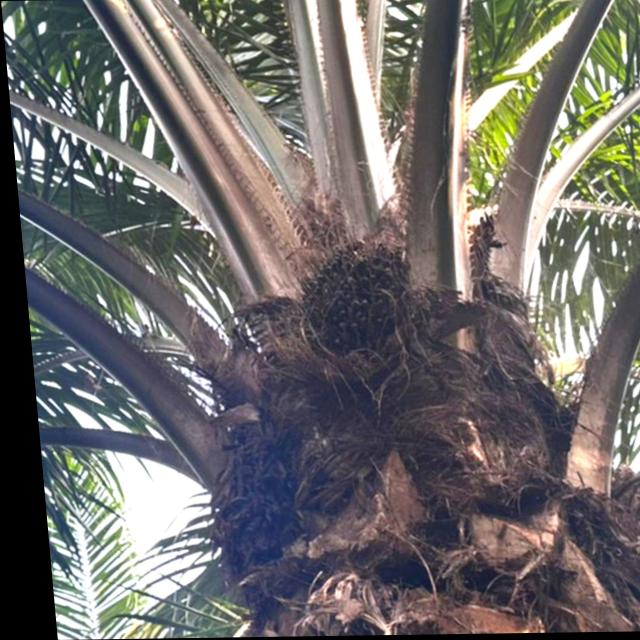unripe: (275, 234, 428, 383)
